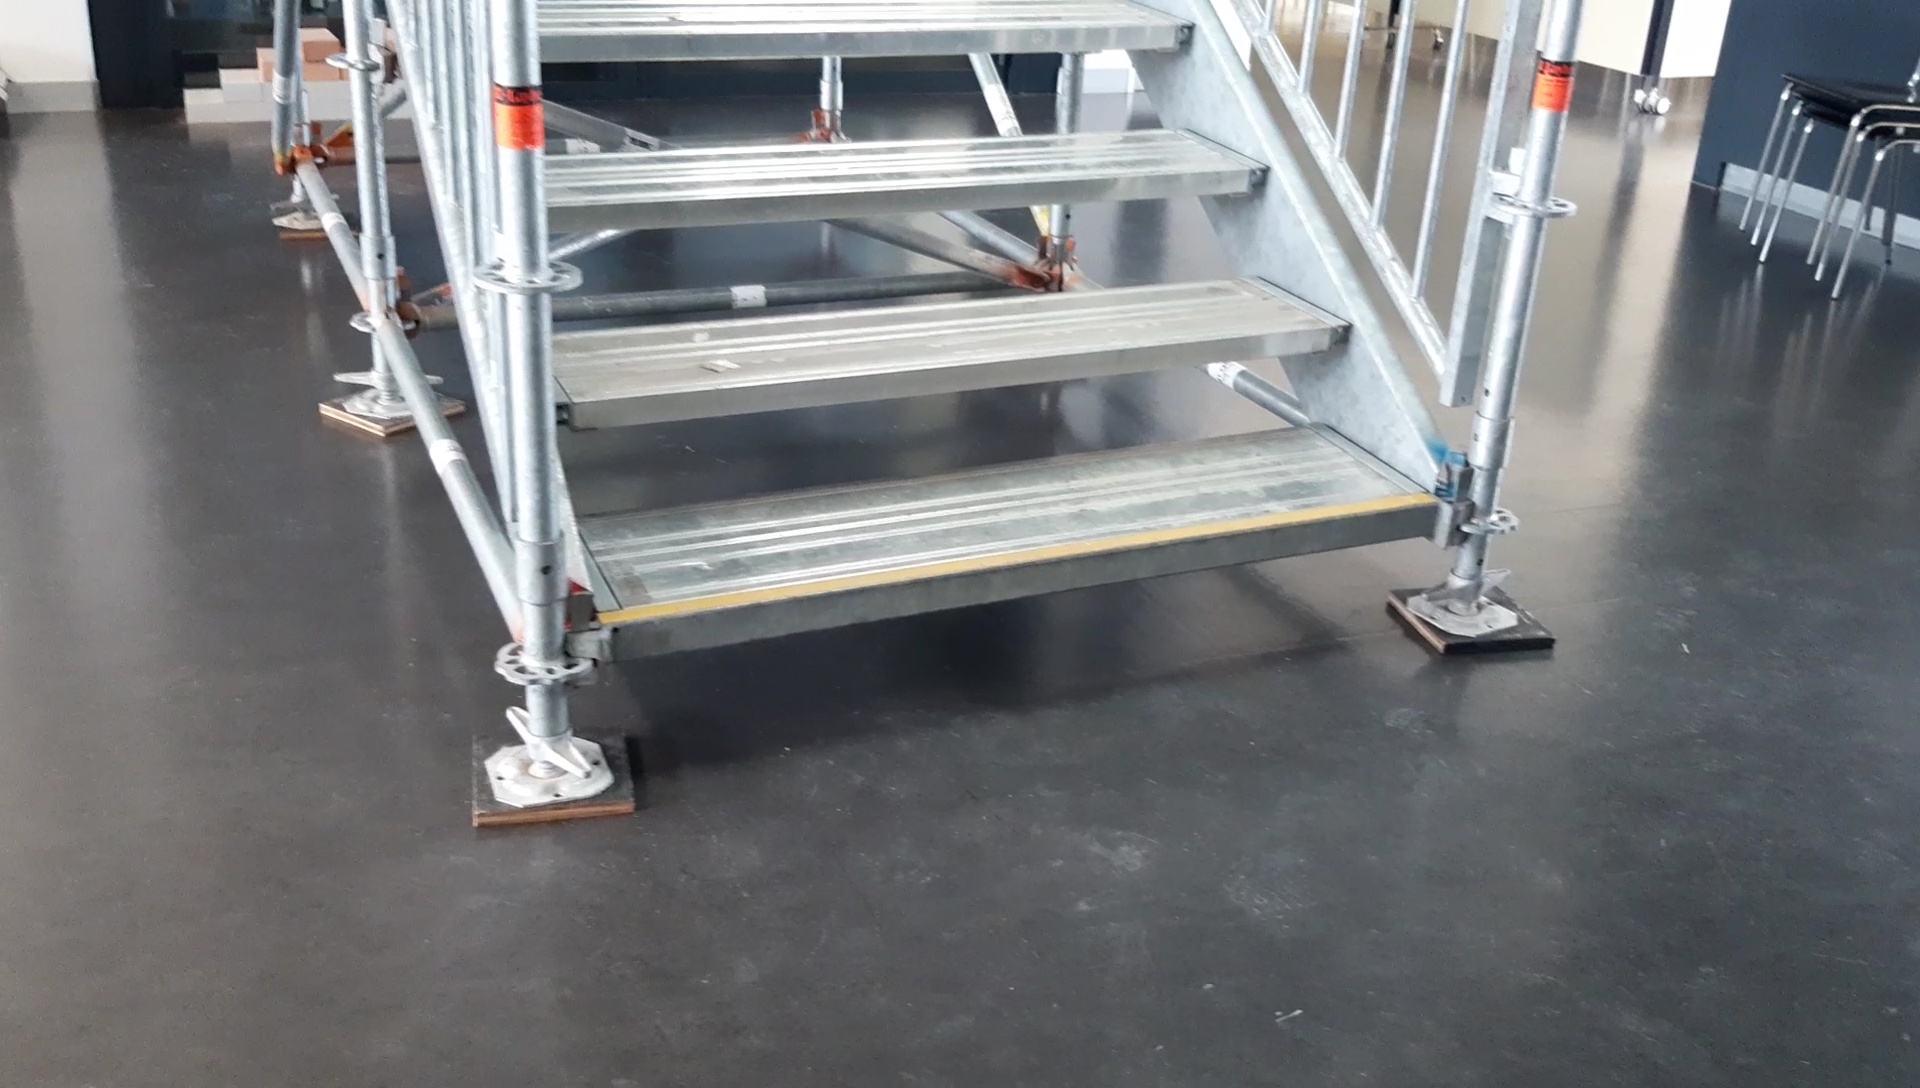edge: (611, 497, 1435, 661), (553, 320, 1353, 430), (541, 167, 1273, 228), (535, 22, 1193, 59)
stairs: (465, 5, 1555, 833)
